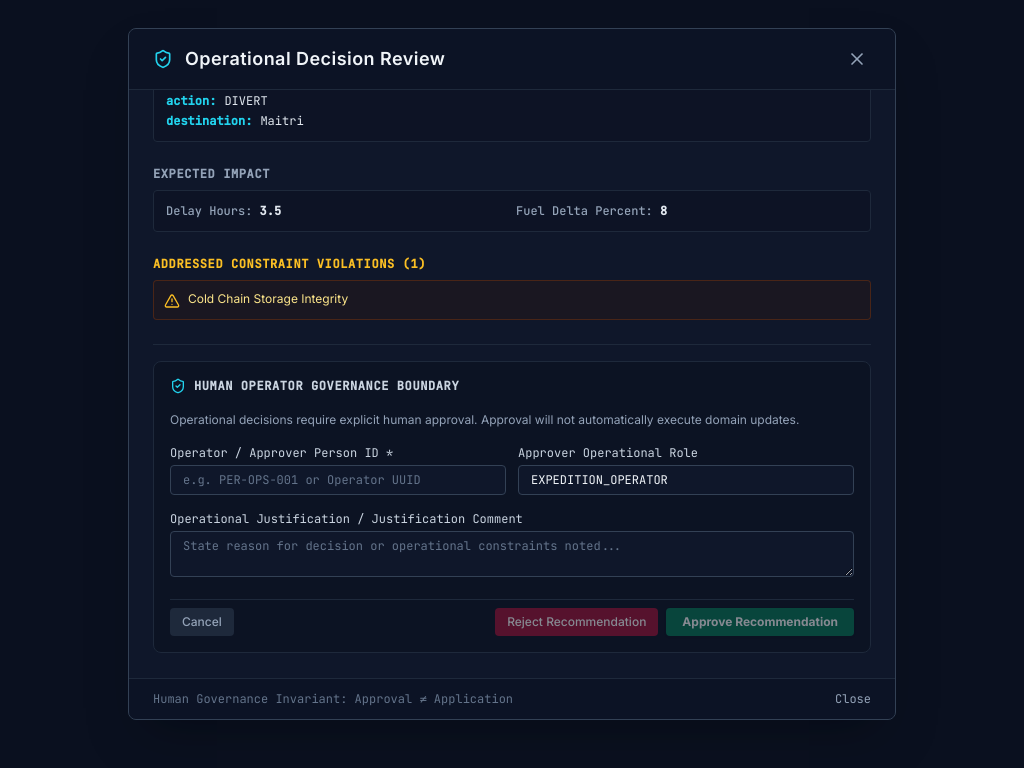
Scenario: ApprovalModal › submits rejection and transitions to REJECTED state
The width and height of the screenshot is (1024, 768).
(page scrolled)
In the field with test id "approver-person-id-input": (338,480) [170, 465, 506, 495], type "PER-OPS-CHIEF"
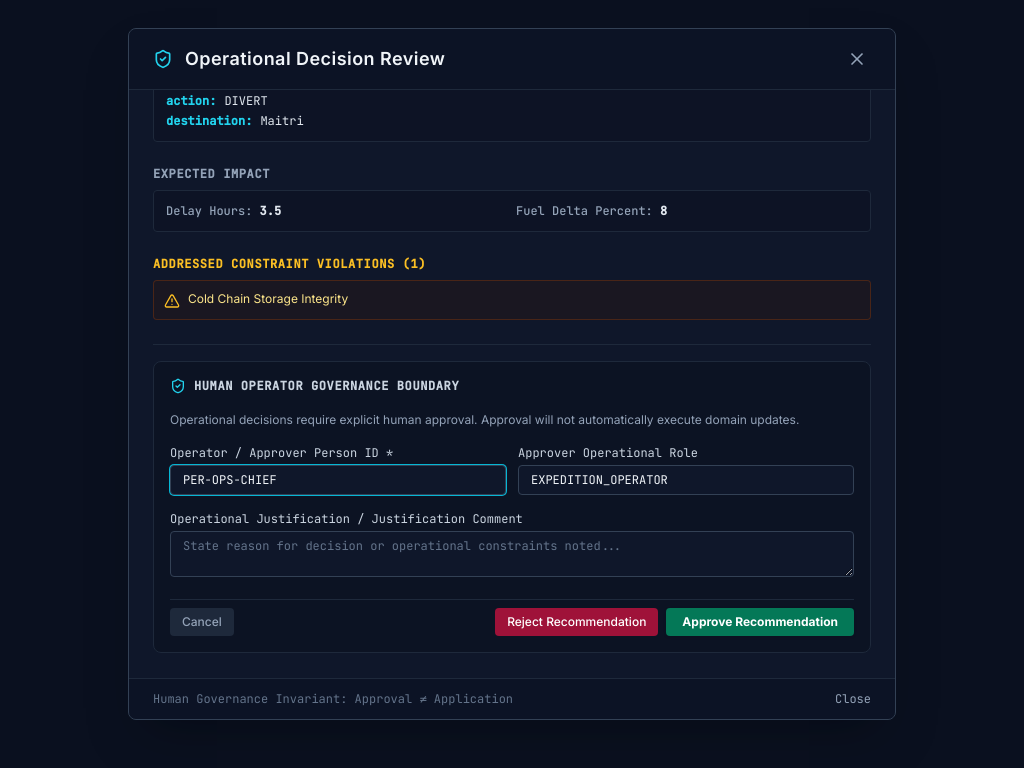
Click the button "Reject Recommendation": (577,622) [495, 608, 658, 636]
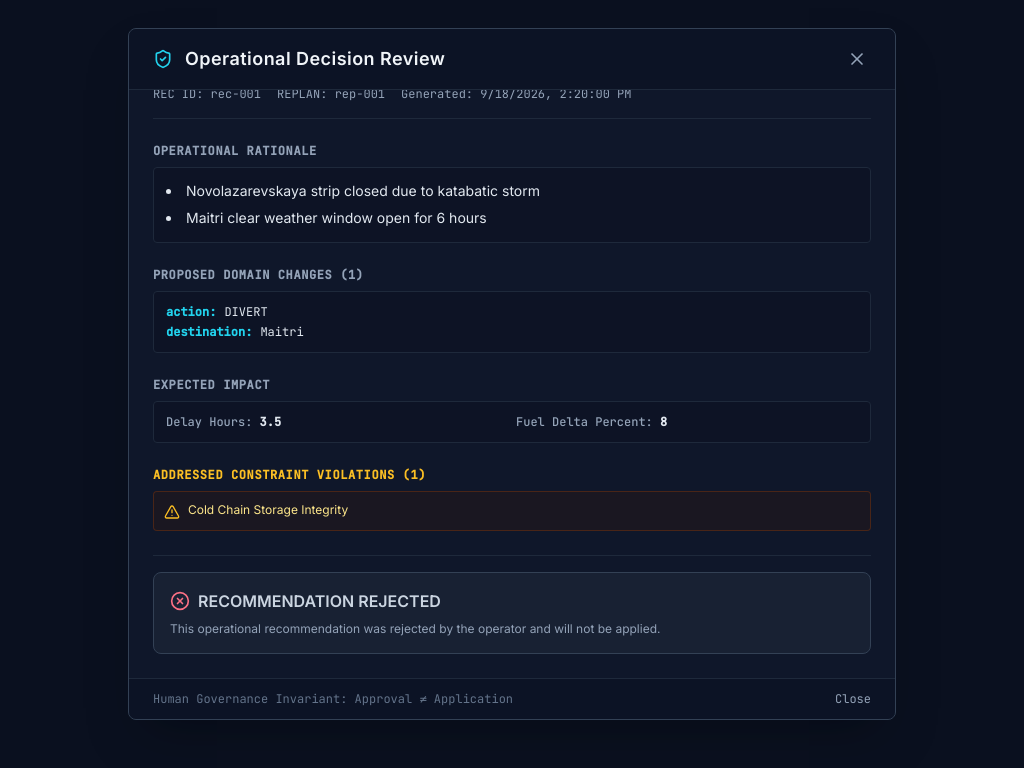
Expected: the text "RECOMMENDATION REJECTED" is shown, [198, 589, 441, 613]
